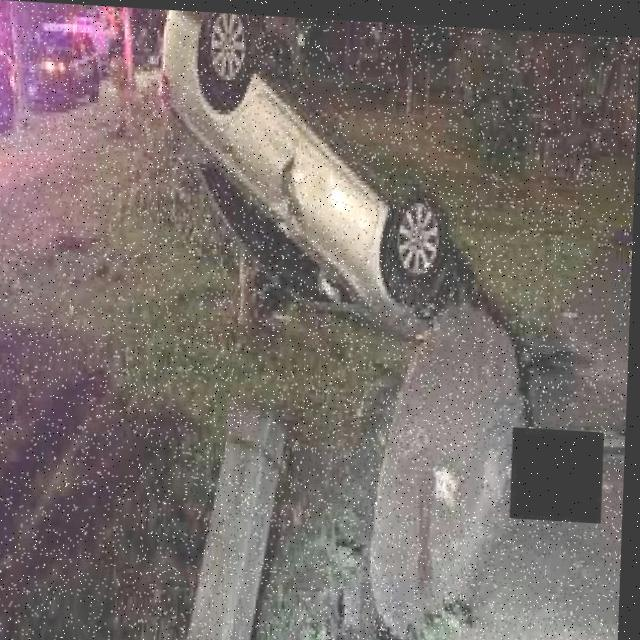single accident: (93, 0, 583, 640)
